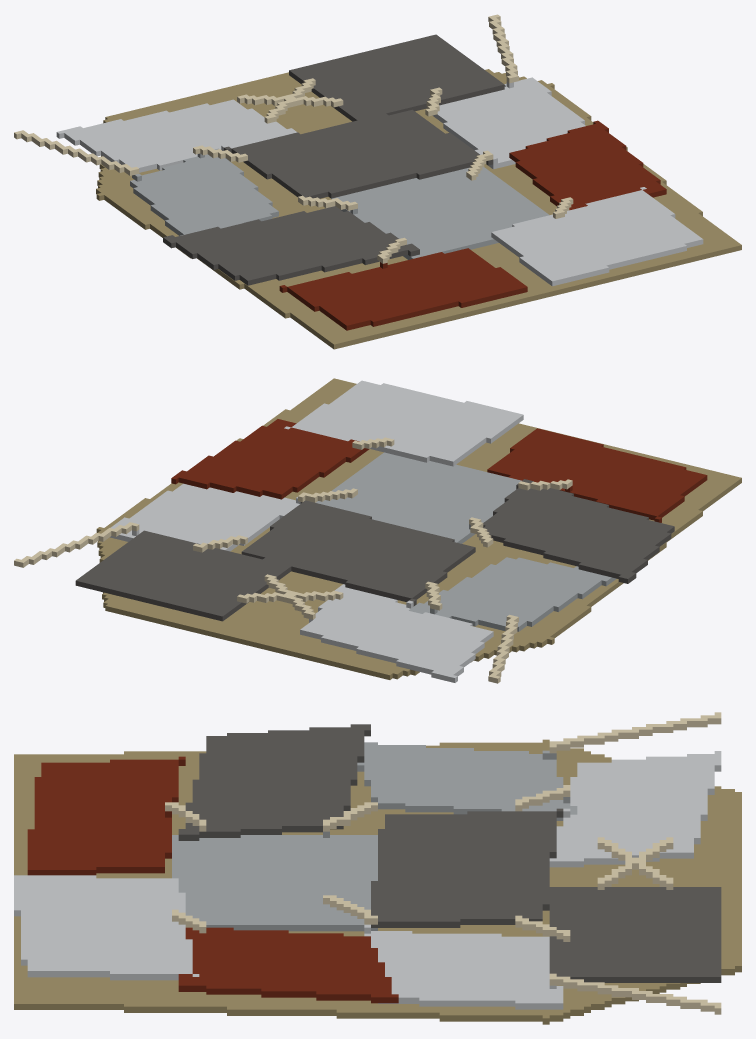
File: cuirass_scrap.glb
The picture shows the model from 3 angles, top to bottom: view 1: azimuth 30°, elevation 25°; view 2: azimuth 150°, elevation 25°; view 3: azimuth 270°, elevation 25°; orthographic projection. The views are drawn at different scales.
Visible parts, largest first — view 1: cuirass_scrap:compound; view 2: cuirass_scrap:compound; view 3: cuirass_scrap:compound.
Boxes of the visible parts, x1,y1,x2,y2 form: cuirass_scrap:compound: (14,14,741,349); cuirass_scrap:compound: (14,378,741,683); cuirass_scrap:compound: (14,712,741,1024).
Size of the model in its own units: 0.408 by 0.016 by 0.424.
